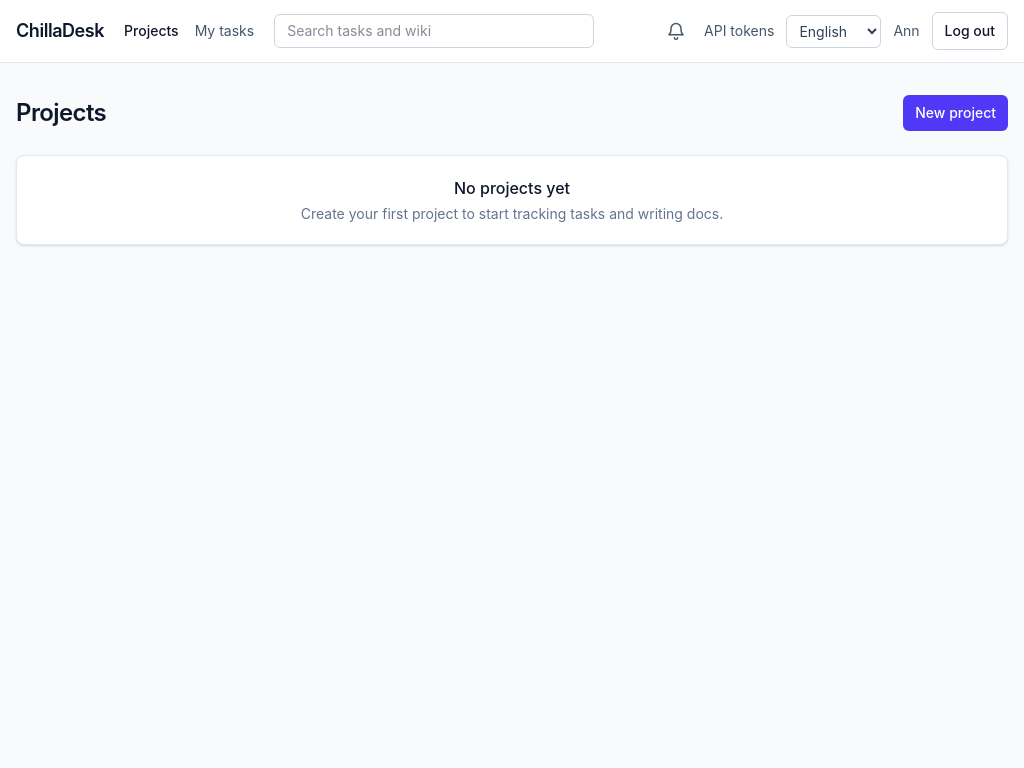
Test: the profile page › is reached from the name in the header and shows the account
Click the link with aria-label "Profile of Ann": click(906, 31) [893, 21, 920, 41]
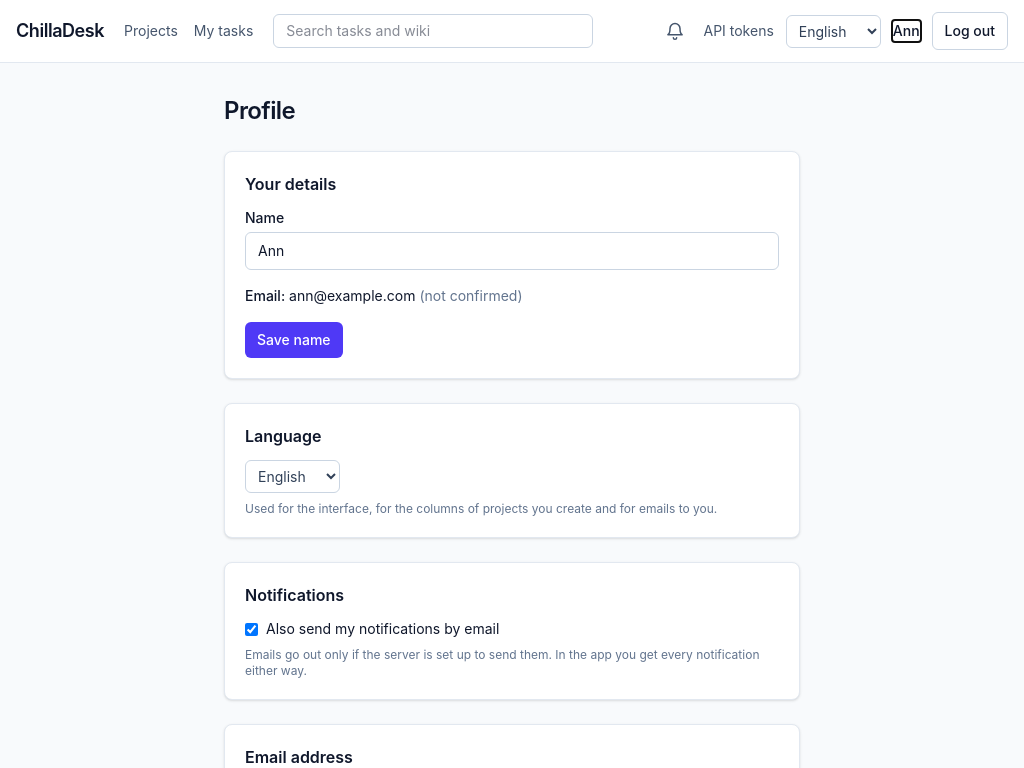
Expected: the heading "Profile" is shown, [224, 96, 295, 125]
Expected: the field labelled "Name" holds "Ann", [245, 232, 779, 270]
Expected: the text "Email: ann@example.com (not confirmed)" is shown, [245, 287, 522, 304]
